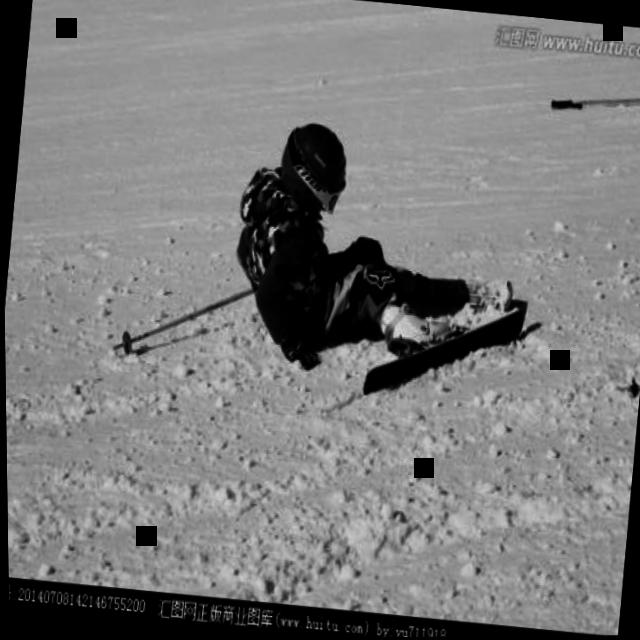Fall-Detected: (208, 94, 542, 397)
